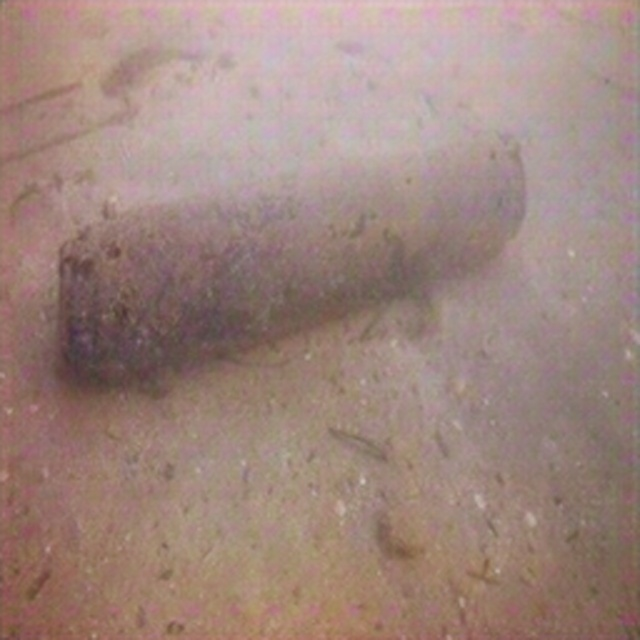mine: (55, 130, 526, 384)
